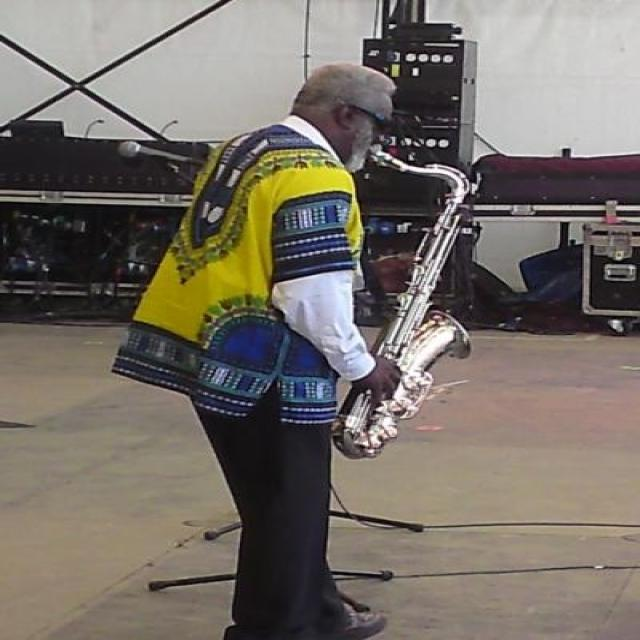saxophone: (331, 146, 479, 463)
